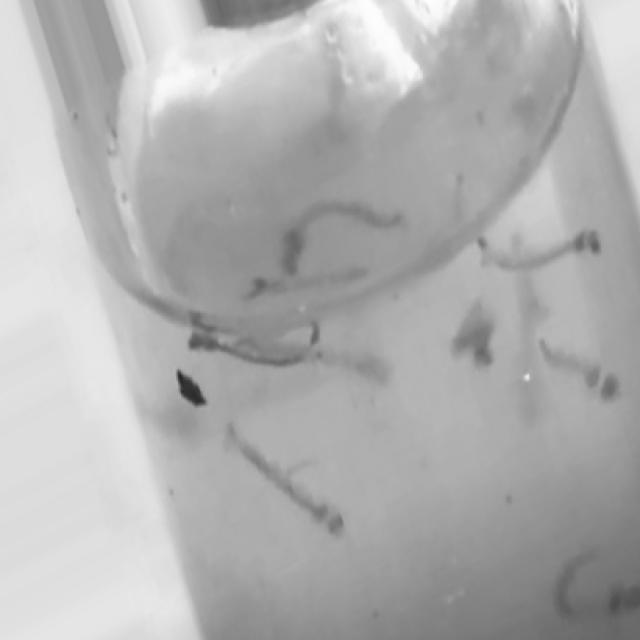larvas: (222, 419, 344, 535), (271, 202, 410, 267), (248, 334, 385, 378), (505, 283, 546, 415), (553, 554, 632, 622), (468, 230, 608, 267), (538, 346, 616, 393), (452, 299, 494, 370), (250, 271, 374, 295), (184, 331, 258, 362)
